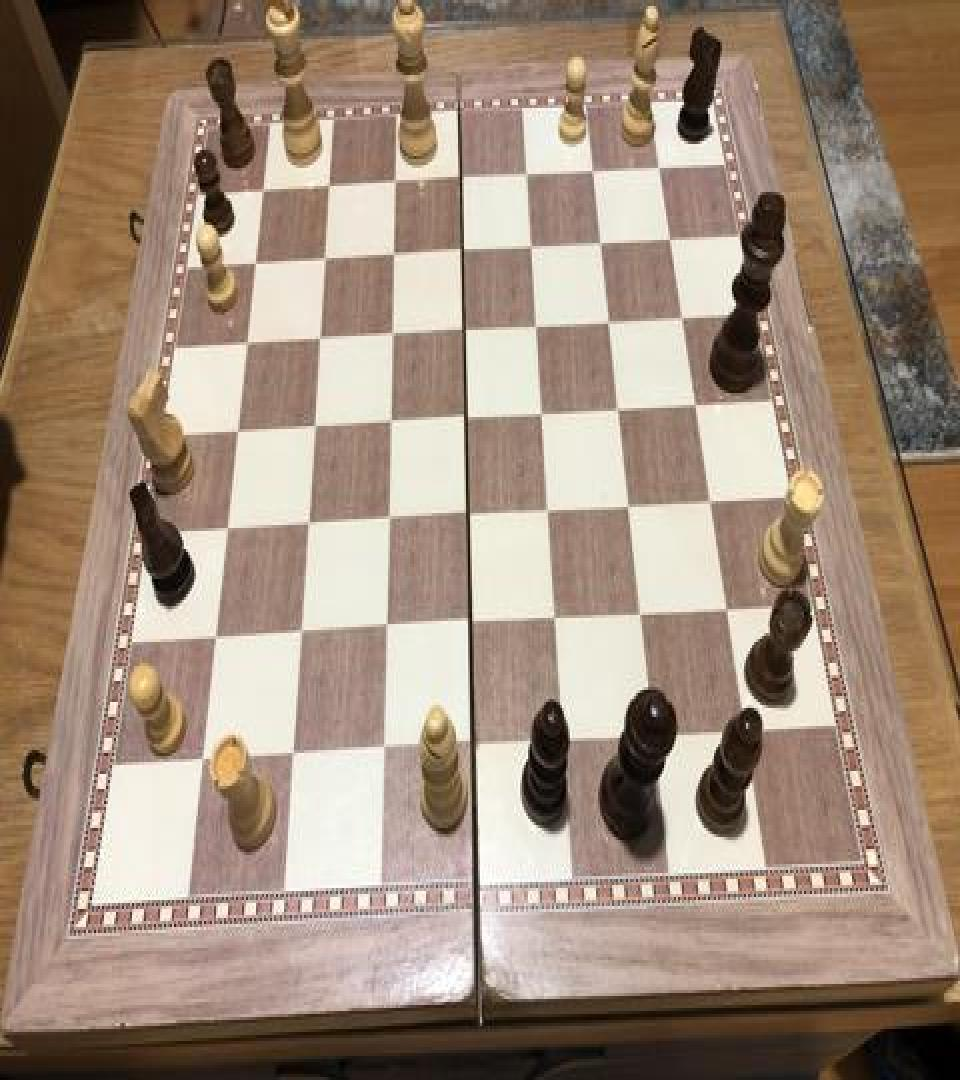xcorner: (203, 616, 227, 653), (190, 739, 214, 776), (649, 148, 673, 184), (582, 152, 606, 188), (516, 154, 540, 190), (450, 159, 474, 195), (383, 162, 407, 198), (317, 166, 341, 202), (251, 170, 275, 206), (660, 219, 684, 255), (590, 224, 614, 260), (521, 226, 545, 262), (451, 231, 475, 267), (382, 234, 406, 270), (313, 238, 337, 274), (243, 242, 267, 278), (672, 298, 696, 334), (599, 303, 623, 339), (526, 306, 550, 342), (453, 310, 477, 346), (380, 314, 404, 350), (307, 318, 331, 354), (235, 322, 259, 358), (685, 386, 709, 422), (609, 390, 633, 426), (532, 393, 556, 429), (455, 398, 479, 434), (378, 402, 402, 438), (302, 406, 326, 442), (225, 410, 249, 446), (700, 482, 724, 518), (619, 486, 643, 522), (538, 490, 562, 526), (457, 495, 481, 531), (376, 500, 400, 536), (296, 504, 320, 540), (215, 507, 239, 543), (717, 590, 741, 626), (631, 594, 655, 630), (545, 598, 569, 634), (460, 603, 484, 639), (374, 608, 398, 644), (289, 612, 313, 648), (736, 711, 760, 747), (645, 716, 669, 752), (553, 722, 577, 758), (462, 726, 486, 762), (371, 730, 395, 766), (281, 735, 305, 771)
